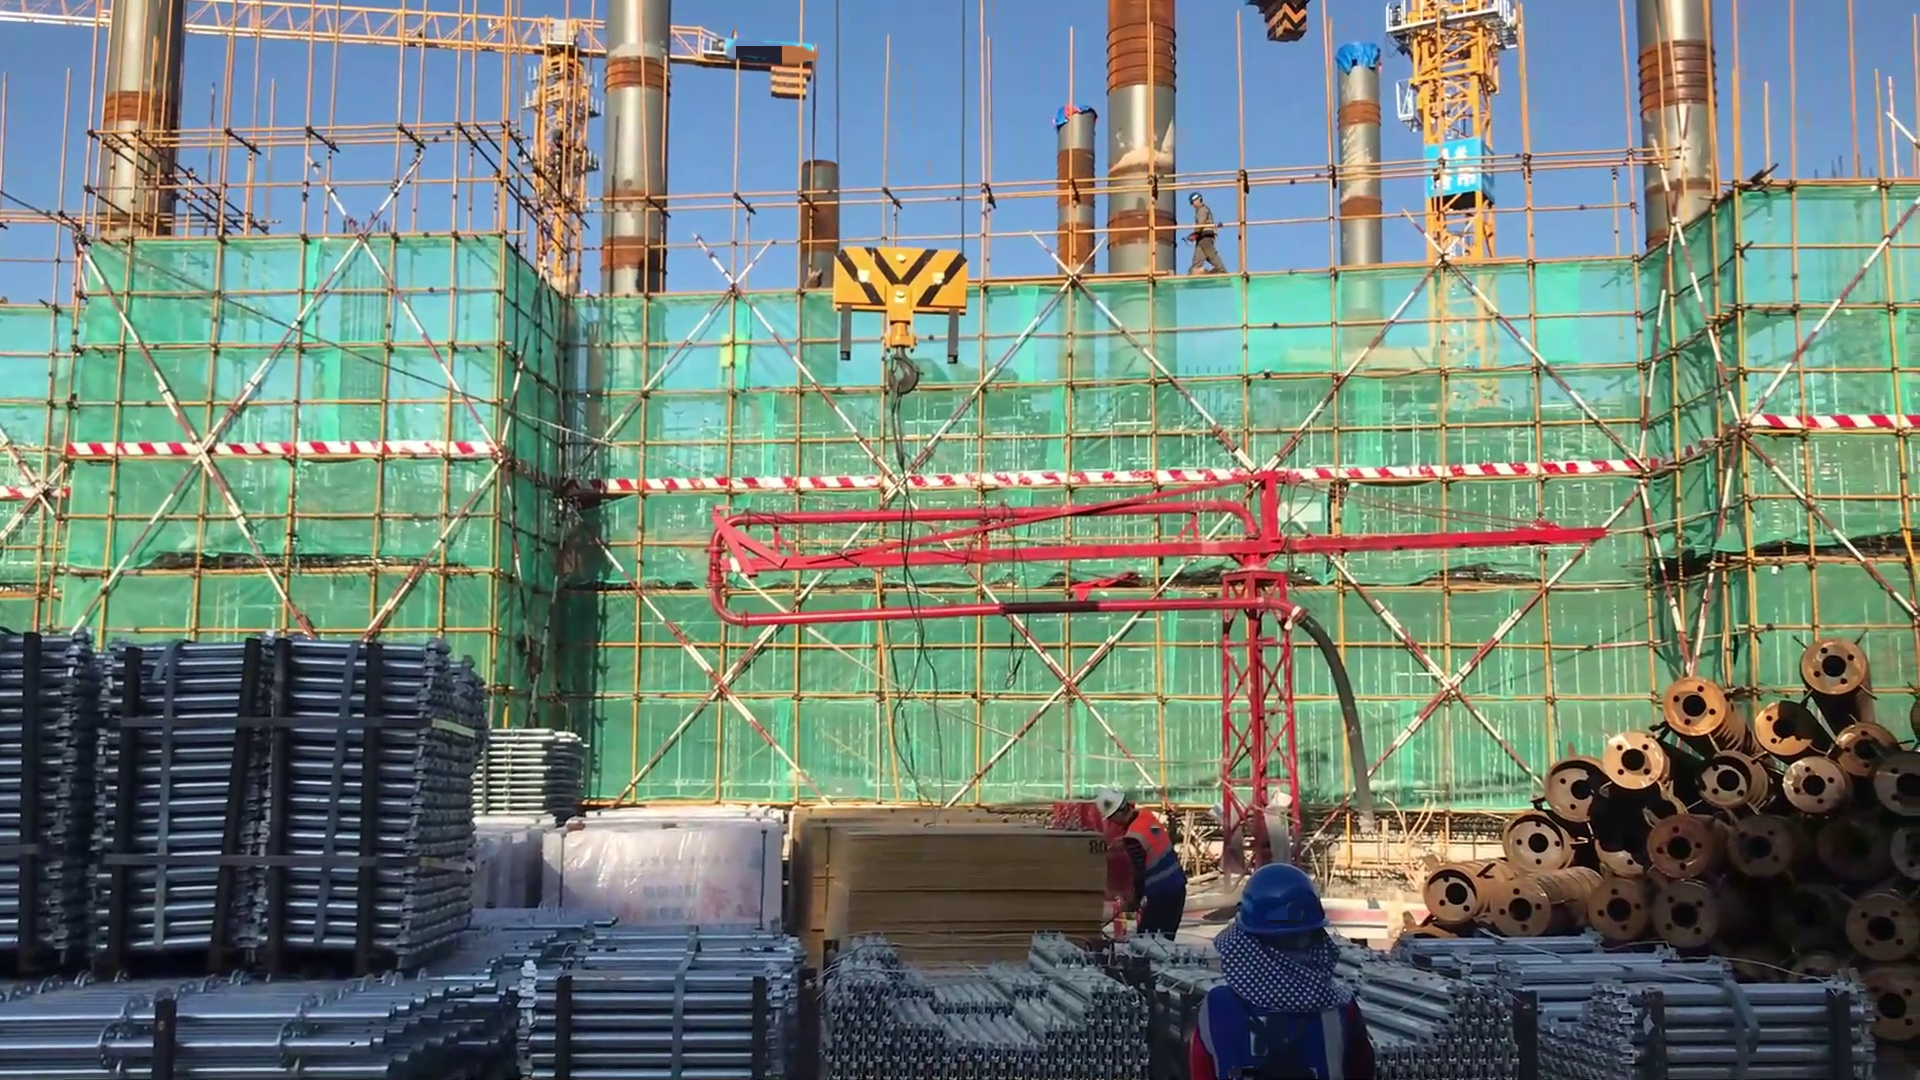board: (789, 806, 1109, 986)
helmet: (1236, 863, 1338, 935), (1088, 780, 1143, 816), (1184, 184, 1214, 203)
hook: (818, 224, 975, 446)
person: (1189, 866, 1385, 1080), (1095, 789, 1193, 956), (1184, 185, 1232, 282)
scaffold: (1, 631, 504, 980), (1, 912, 608, 1077), (1367, 920, 1855, 1080), (824, 910, 1152, 1080), (515, 926, 813, 1080), (476, 728, 594, 812)
slogan: (1427, 139, 1488, 202)
vest: (1193, 978, 1349, 1080), (1123, 802, 1190, 897)
